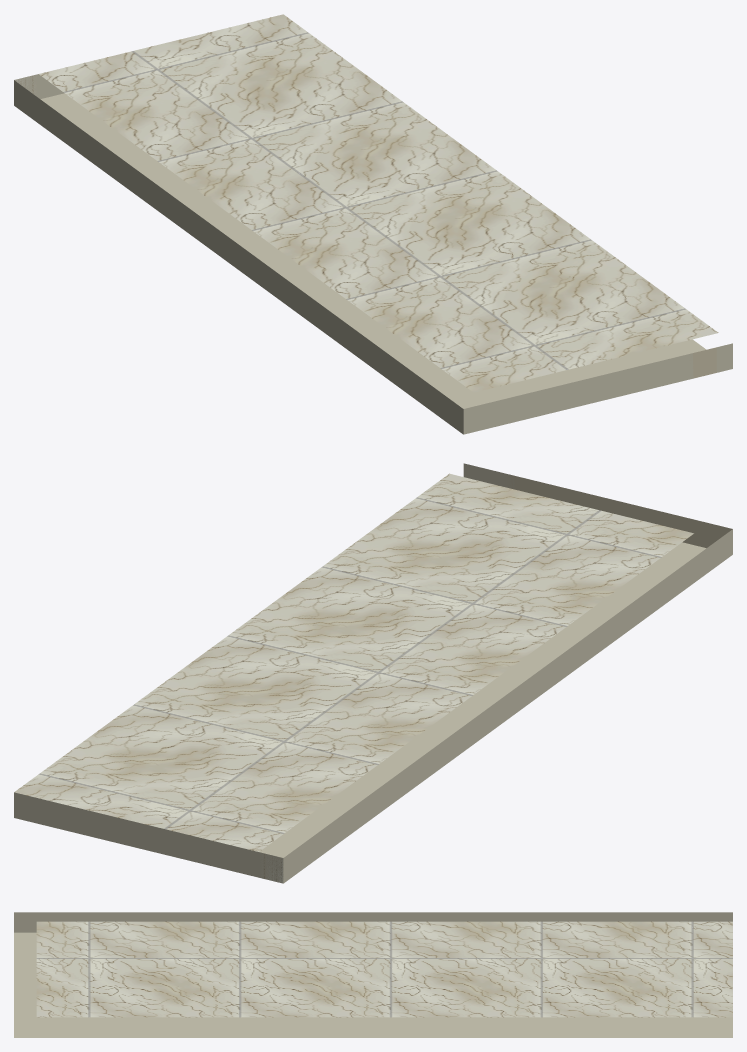
Rendered from FrontLeft2ndFloorP2.obj.
3 views of the same model, one above another, from view 1: azimuth 30°, elevation 25°; view 2: azimuth 150°, elevation 25°; view 3: azimuth 270°, elevation 25° (orthographic). The views are drawn at different scales.
Parts seen in each view (by area): view 1: Box011; view 2: Box011; view 3: Box011.
Boxes of the visible parts, <box> form: Box011: <box>14,14,732,434</box>; Box011: <box>14,463,732,883</box>; Box011: <box>14,912,732,1037</box>.
Size of the model in its own units: 130 by 11.81 by 375.
